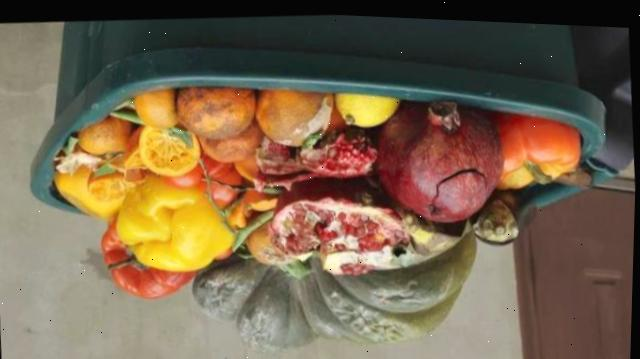Garbage: (48, 79, 597, 345)
